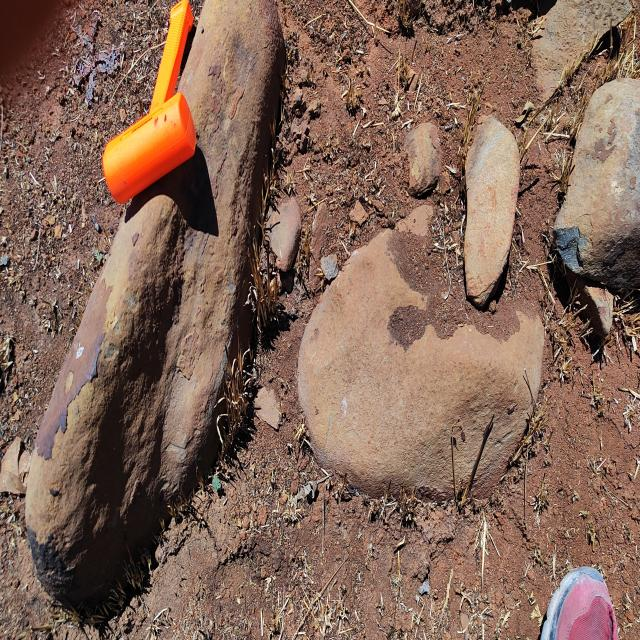Orange_hammer: (101, 0, 196, 205)
